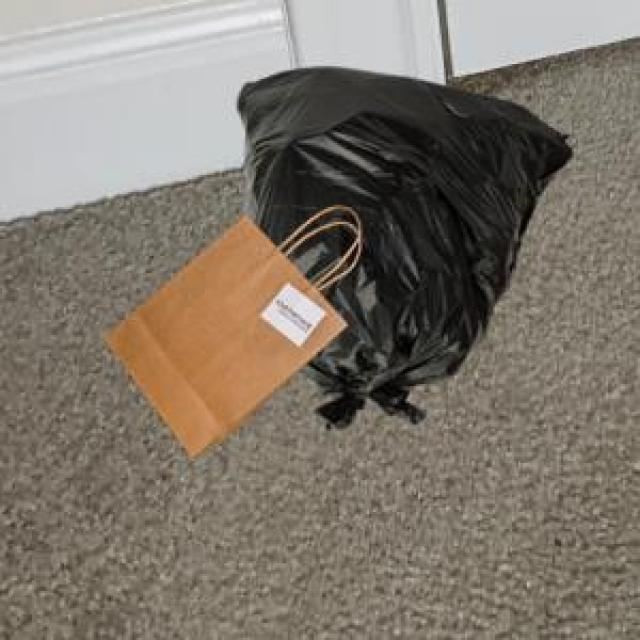miscellaneous trash: (233, 62, 568, 425)
paper: (102, 211, 344, 452)
